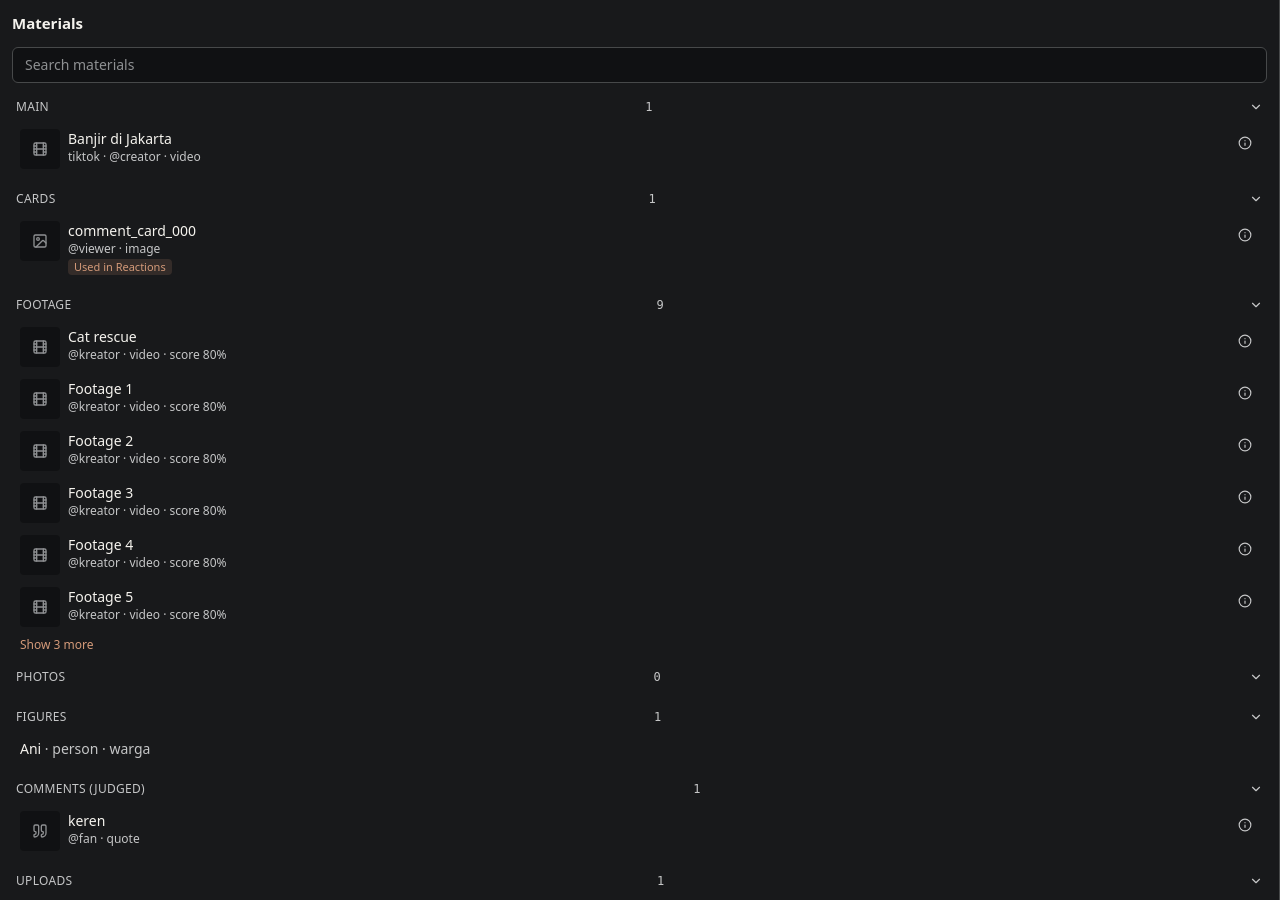
search keeps only matching materials
The width and height of the screenshot is (1280, 900).
Type "CAT" into the search field labelled "Search materials" at (640, 64), box [12,46,1267,82]
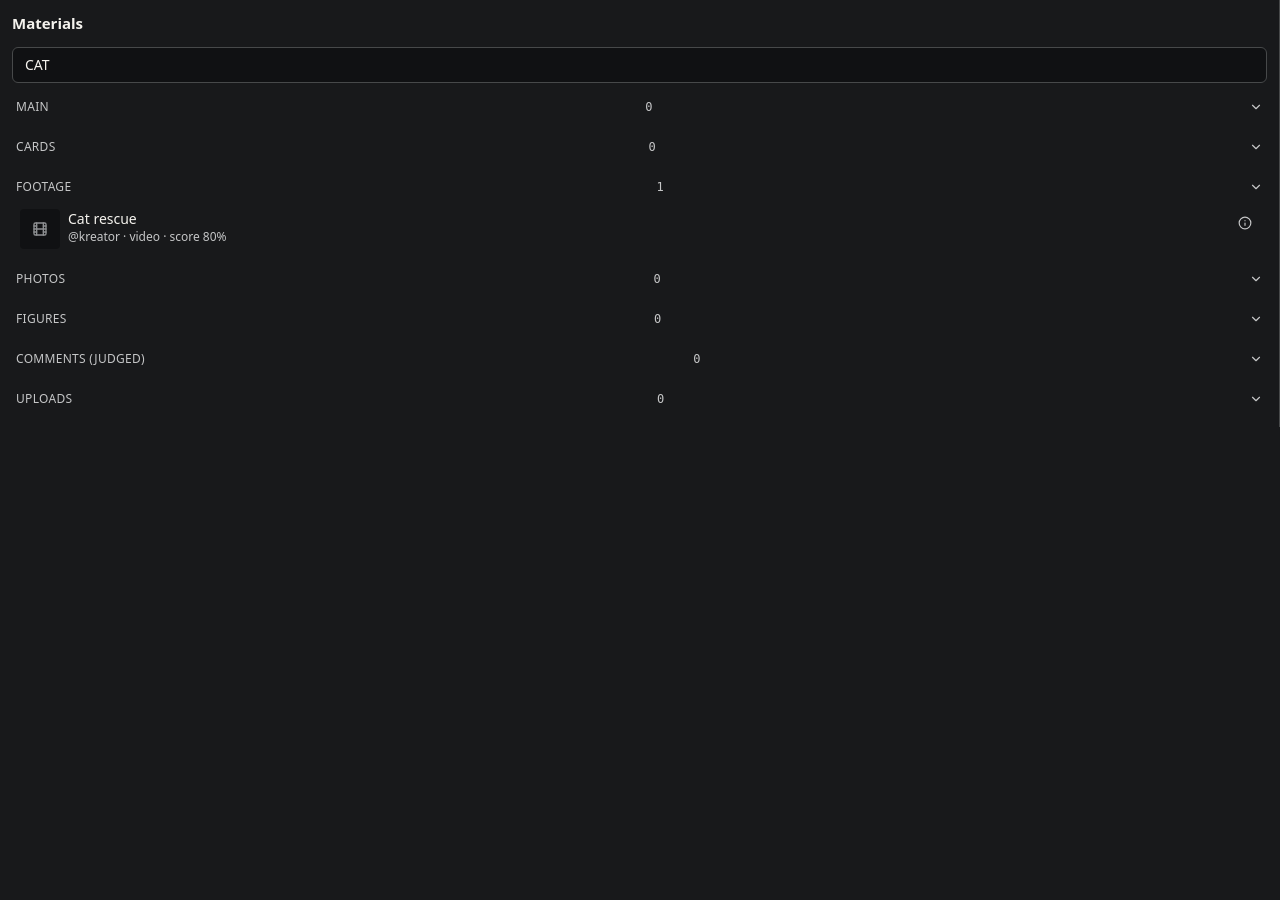
Check: no the list item "Banjir di Jakarta tiktok · @creator · video" are shown
